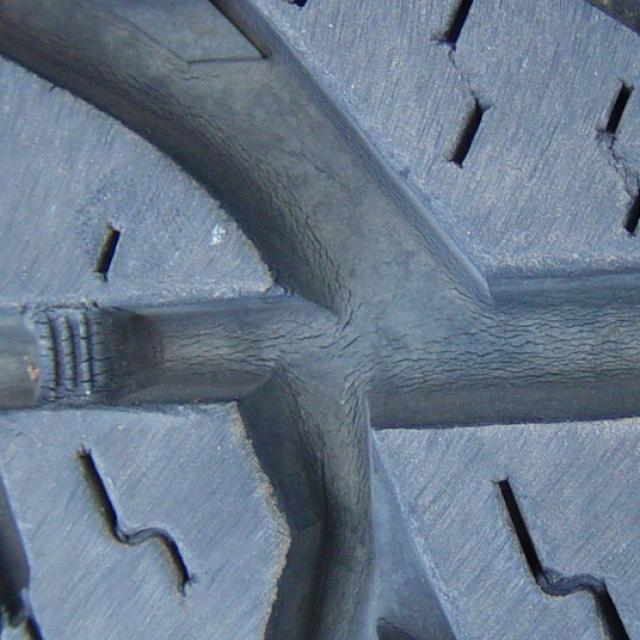Cracks: (0, 0, 448, 270), (0, 268, 640, 425), (243, 427, 389, 640)
